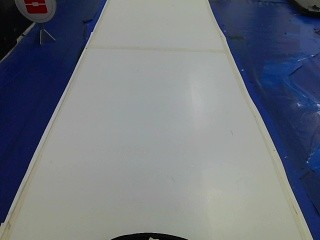company: (15, 0, 54, 22)
